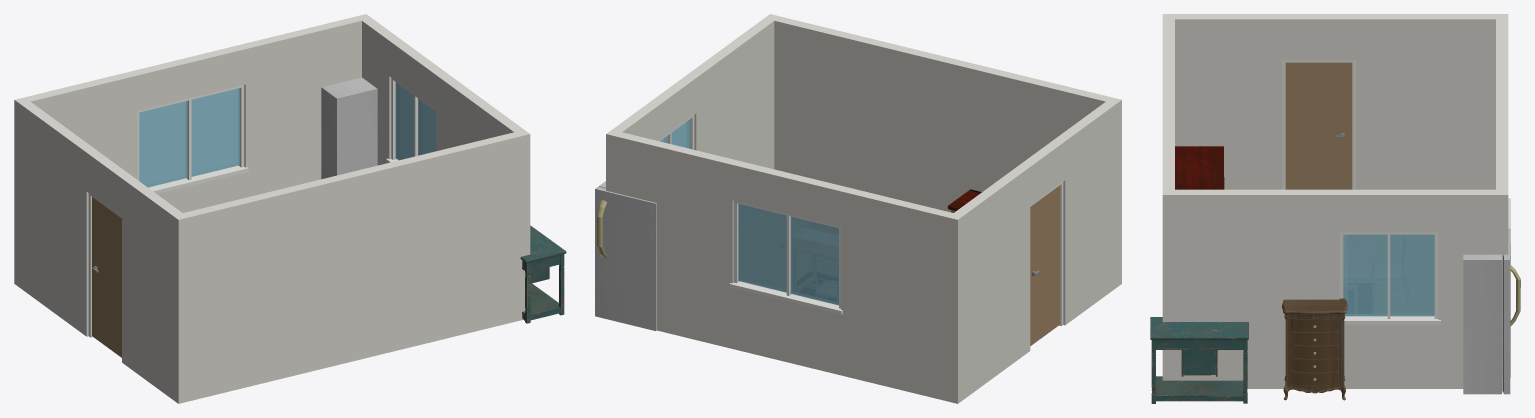
The model's file is layoutgpt.glb.
The picture shows the model from 3 angles, left to right: view 1: azimuth 30°, elevation 25°; view 2: azimuth 150°, elevation 25°; view 3: azimuth 270°, elevation 25°; orthographic projection. The views are drawn at different scales.
Visible parts, largest first — view 1: wall|scenesmith_093__R00|0, wall|scenesmith_093__R00|2, wall|scenesmith_093__R00|1, wall|scenesmith_093__R00|3, wall|scenesmith_093__R00|1 Window 0 | glazing, scenesmith_093__R00_10, wall|scenesmith_093__R00|2 Door 0 | wood leaf, scenesmith_093__R00_6, wall|scenesmith_093__R00|3 Window 0 | glazing, wall|scenesmith_093__R00|1 Window 0 | jamb, wall|scenesmith_093__R00|3 Window 0 | jamb, wall|scenesmith_093__R00|2 Door 0 | jamb; view 2: wall|scenesmith_093__R00|1, wall|scenesmith_093__R00|0, wall|scenesmith_093__R00|2, wall|scenesmith_093__R00|3, scenesmith_093__R00_10, wall|scenesmith_093__R00|1 Window 0 | glazing, wall|scenesmith_093__R00|2 Door 0 | wood leaf, wall|scenesmith_093__R00|1 Window 0 | jamb, wall|scenesmith_093__R00|2 Door 0 | jamb; view 3: wall|scenesmith_093__R00|2, wall|scenesmith_093__R00|3, wall|scenesmith_093__R00|2 Door 0 | wood leaf, wall|scenesmith_093__R00|3 Window 0 | glazing, scenesmith_093__R00_10, scenesmith_093__R00_6, raw_model.004, wall|scenesmith_093__R00|0, wall|scenesmith_093__R00|1, wall|scenesmith_093__R00|3 Window 0 | jamb, scenesmith_093__R00_5, wall|scenesmith_093__R00|2 Door 0 | jamb.
Part boxes in pixels (x1,y1,x2,y2): wall|scenesmith_093__R00|0: (178, 130, 529, 403); wall|scenesmith_093__R00|2: (14, 97, 188, 403); wall|scenesmith_093__R00|1: (25, 16, 361, 212); wall|scenesmith_093__R00|3: (356, 14, 530, 320); wall|scenesmith_093__R00|1 Window 0 | glazing: (139, 88, 239, 187); scenesmith_093__R00_10: (321, 77, 377, 179); wall|scenesmith_093__R00|2 Door 0 | wood leaf: (92, 197, 121, 357); scenesmith_093__R00_6: (520, 225, 566, 323); wall|scenesmith_093__R00|3 Window 0 | glazing: (395, 82, 436, 160); wall|scenesmith_093__R00|1 Window 0 | jamb: (137, 85, 248, 193); wall|scenesmith_093__R00|3 Window 0 | jamb: (386, 78, 436, 163); wall|scenesmith_093__R00|2 Door 0 | jamb: (88, 193, 121, 337); wall|scenesmith_093__R00|1: (616, 132, 953, 401); wall|scenesmith_093__R00|0: (764, 14, 1111, 212); wall|scenesmith_093__R00|2: (947, 97, 1121, 403); wall|scenesmith_093__R00|3: (606, 14, 778, 192); scenesmith_093__R00_10: (595, 181, 656, 330); wall|scenesmith_093__R00|1 Window 0 | glazing: (738, 204, 838, 305); wall|scenesmith_093__R00|2 Door 0 | wood leaf: (1030, 185, 1059, 345); wall|scenesmith_093__R00|1 Window 0 | jamb: (729, 200, 842, 314); wall|scenesmith_093__R00|2 Door 0 | jamb: (1030, 182, 1063, 325); wall|scenesmith_093__R00|2: (1162, 14, 1508, 189); wall|scenesmith_093__R00|3: (1162, 189, 1508, 388); wall|scenesmith_093__R00|2 Door 0 | wood leaf: (1285, 62, 1352, 189); wall|scenesmith_093__R00|3 Window 0 | glazing: (1343, 234, 1434, 316); scenesmith_093__R00_10: (1463, 228, 1520, 394); scenesmith_093__R00_6: (1150, 317, 1248, 403); raw_model.004: (1282, 298, 1347, 400); wall|scenesmith_093__R00|0: (1162, 19, 1174, 380); wall|scenesmith_093__R00|1: (1496, 19, 1508, 257); wall|scenesmith_093__R00|3 Window 0 | jamb: (1339, 232, 1440, 324); scenesmith_093__R00_5: (1175, 146, 1224, 189); wall|scenesmith_093__R00|2 Door 0 | jamb: (1282, 60, 1355, 189).
Bounding box in the file's own units: 5.65 × 2.61 × 4.5.
14 materials, 8 textured.
